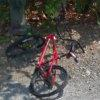Bicycle: (7, 21, 78, 97)
